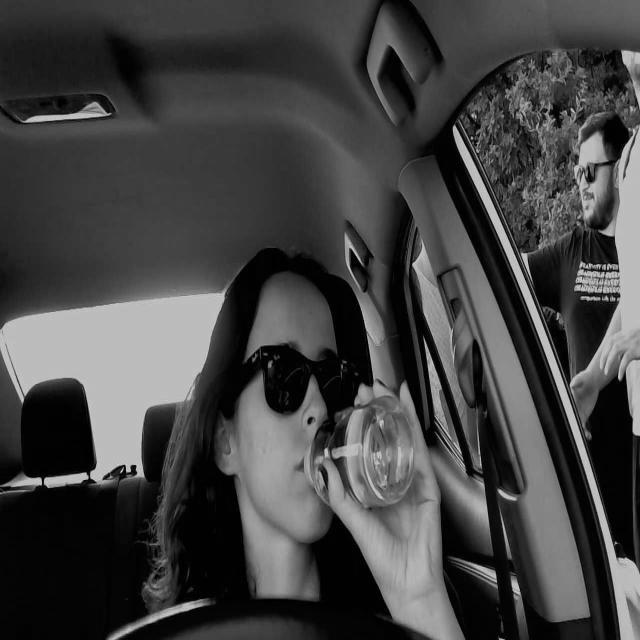Drinking: (304, 405, 422, 517)
